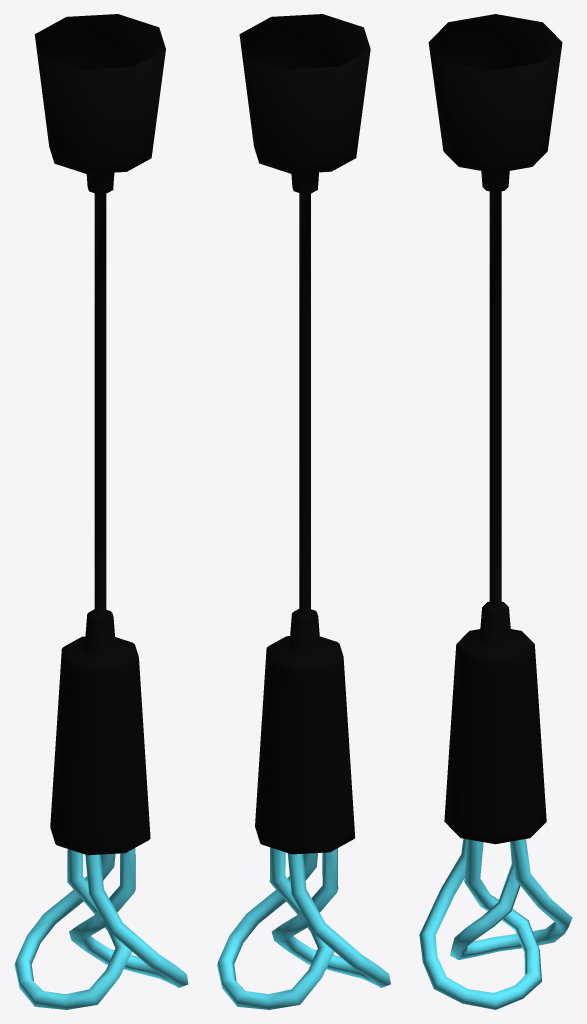
Rendered from SM_Pendantlight_007_D.FBX.
The picture shows the model from 3 angles, left to right: view 1: azimuth 30°, elevation 25°; view 2: azimuth 210°, elevation 25°; view 3: azimuth 270°, elevation 25°; orthographic projection.
Visible parts, largest first — view 1: SM_Pendantlight_007_D; view 2: SM_Pendantlight_007_D; view 3: SM_Pendantlight_007_D.
Part boxes in pixels (box(x1,y1,x2,y2)): SM_Pendantlight_007_D: box(14, 14, 188, 1009); SM_Pendantlight_007_D: box(217, 14, 390, 1009); SM_Pendantlight_007_D: box(419, 14, 572, 1009).
Size of the model in its own units: 13.63 by 13.67 by 92.14.
